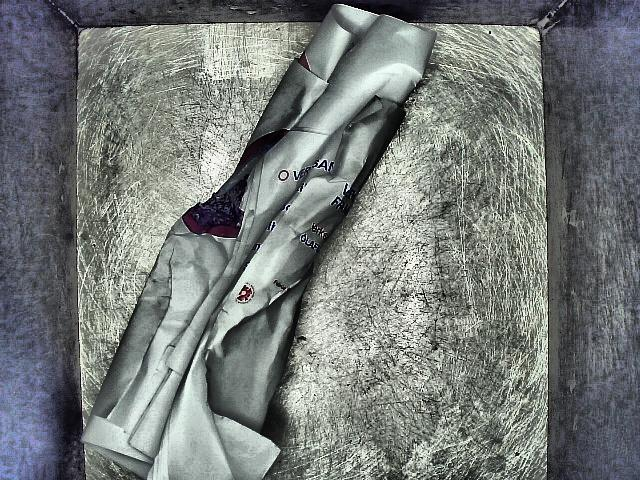Paper: (70, 7, 446, 479)
